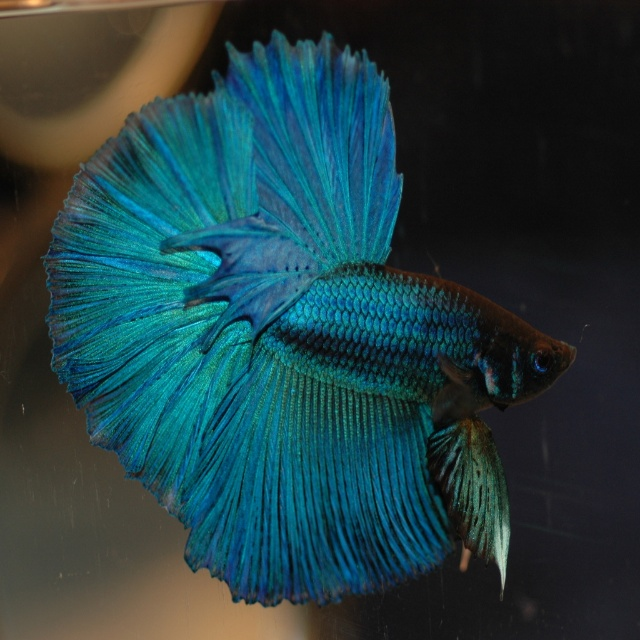Fish: (44, 32, 578, 612)
